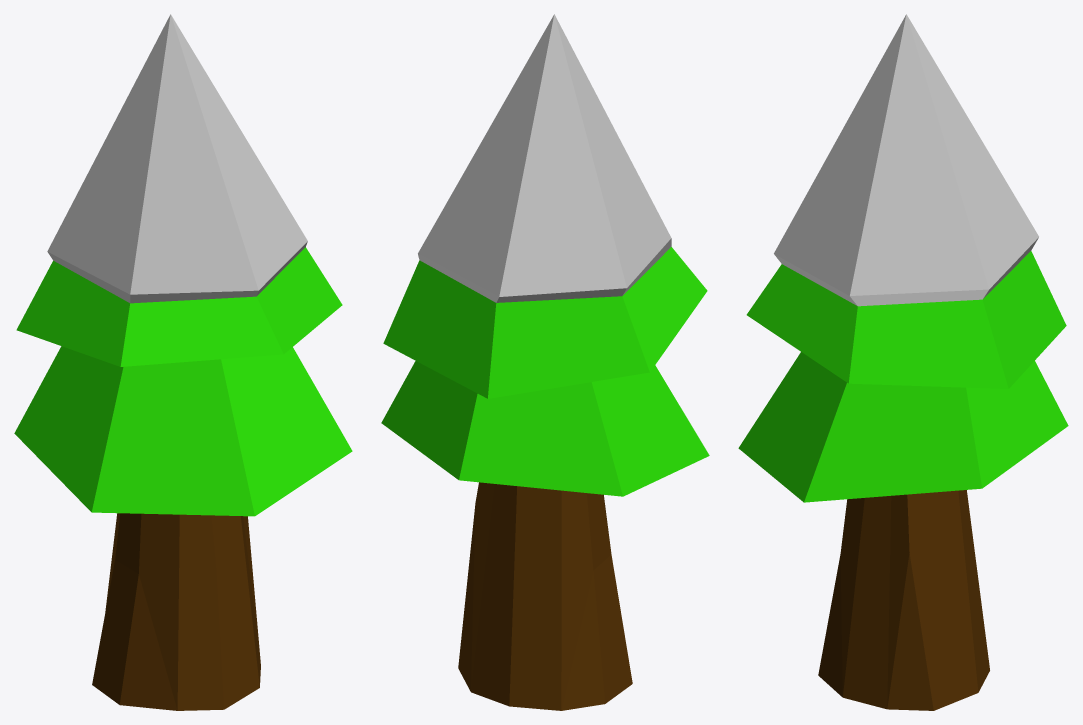
The model's file is Pine tree#1_Snow.fbx.
3 views of the same model, side by side, from view 1: azimuth 30°, elevation 25°; view 2: azimuth 150°, elevation 25°; view 3: azimuth 270°, elevation 25° (orthographic).
Visible parts, largest first — view 1: Pine tree#1_Snow; view 2: Pine tree#1_Snow; view 3: Pine tree#1_Snow.
Boxes of the visible parts, x1,y1,x2,y2 form: Pine tree#1_Snow: (14, 14, 352, 710); Pine tree#1_Snow: (381, 14, 709, 710); Pine tree#1_Snow: (738, 14, 1068, 710).
Size of the model in its own units: 270 by 642 by 292.
